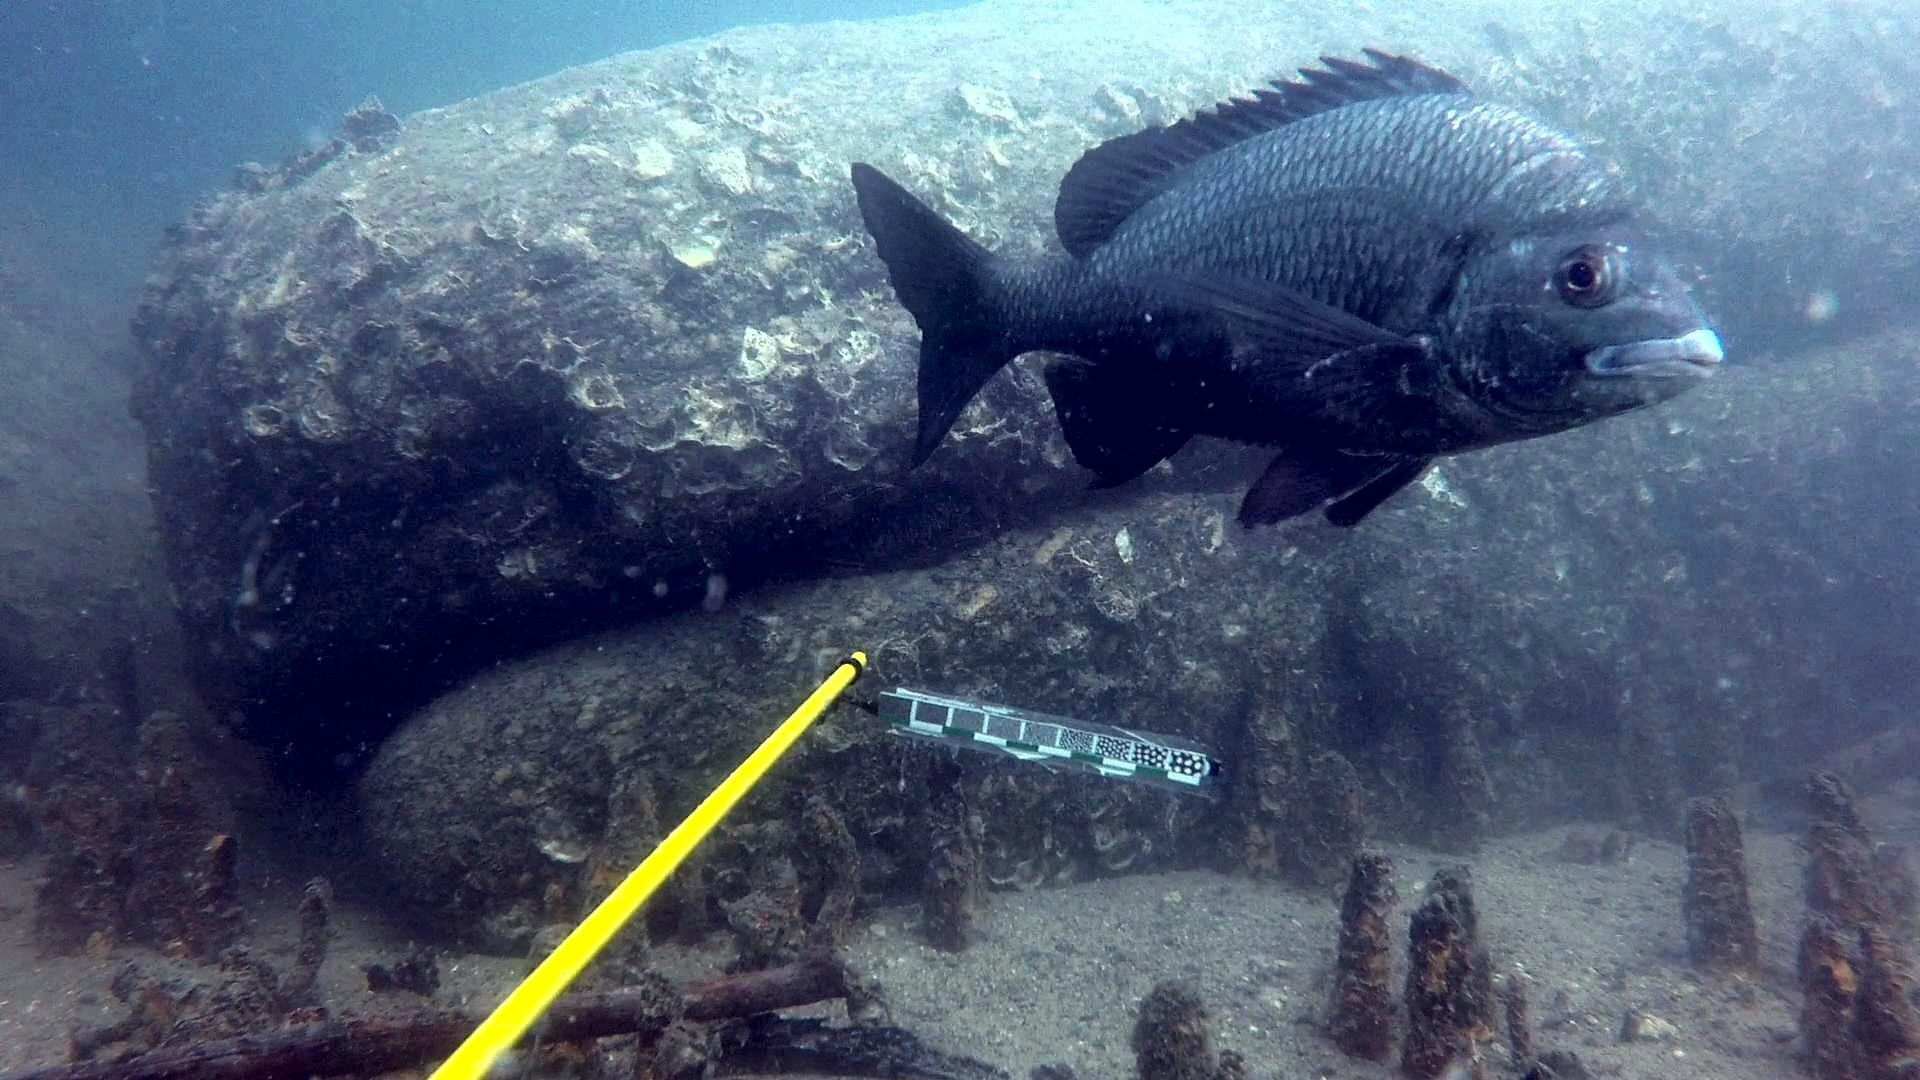acanthopagrus palmaris: (845, 36, 1730, 535)
